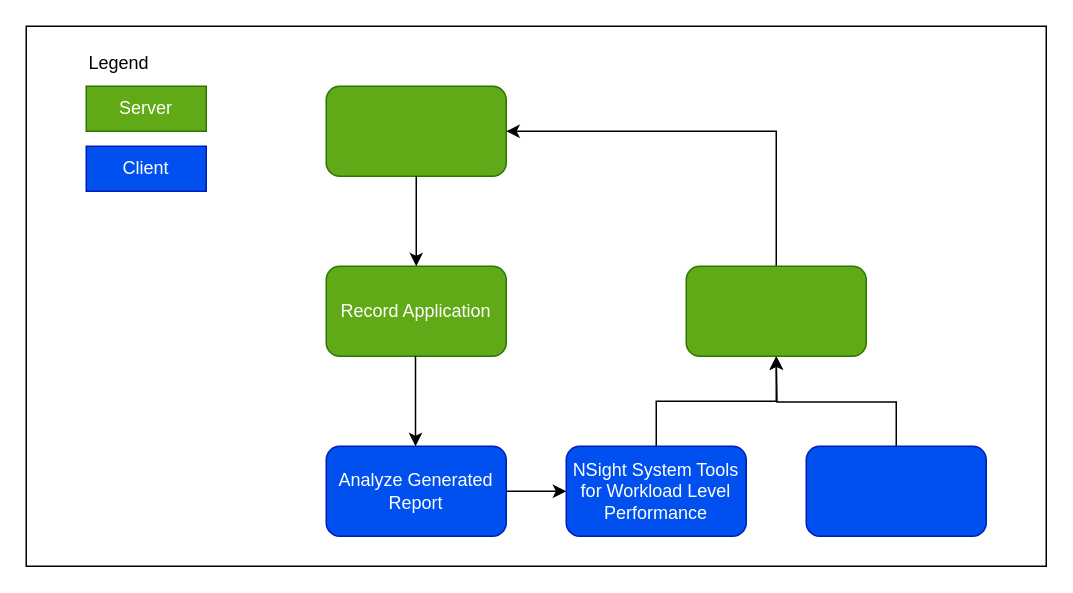
The diagram is 1073 pixels wide and 593 high, and some of its shapes have lost their labels. Here are the shapes that lost their labels. From the top down, the centre of each, then its label:
At (x=415, y=130): "Identify Code to be Profiled".
At (x=775, y=310): "Implement Optimizations".
At (x=895, y=490): "NSight Compute for Kernel Optimization".
